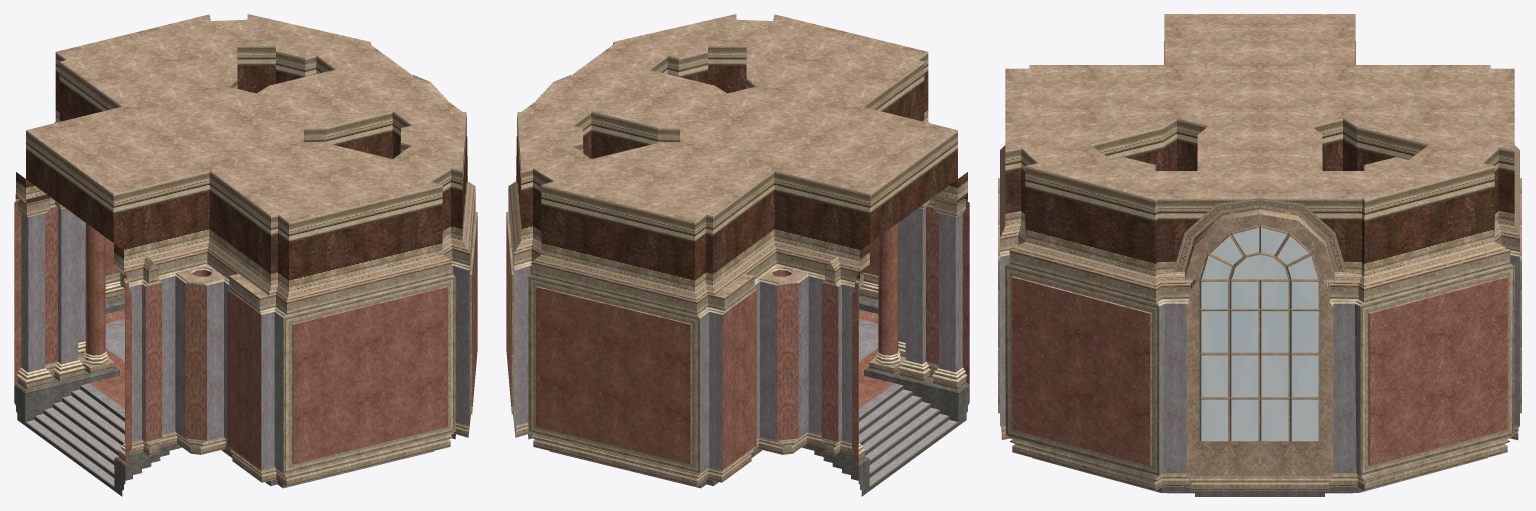
File: thm_nboo_thed_theed_palace_r12_mesh_r12.fbx
3 views of the same model, side by side, from view 1: azimuth 30°, elevation 25°; view 2: azimuth 150°, elevation 25°; view 3: azimuth 270°, elevation 25° (orthographic). The views are drawn at different scales.
Visible parts, largest first — view 1: mesh_node; view 2: mesh_node; view 3: mesh_node.
Boxes of the visible parts, x1,y1,x2,y2 form: mesh_node: [14, 14, 477, 496]; mesh_node: [506, 14, 969, 496]; mesh_node: [998, 14, 1521, 496].
Bounding box in the file's own units: 28.23 × 22 × 32.28.
